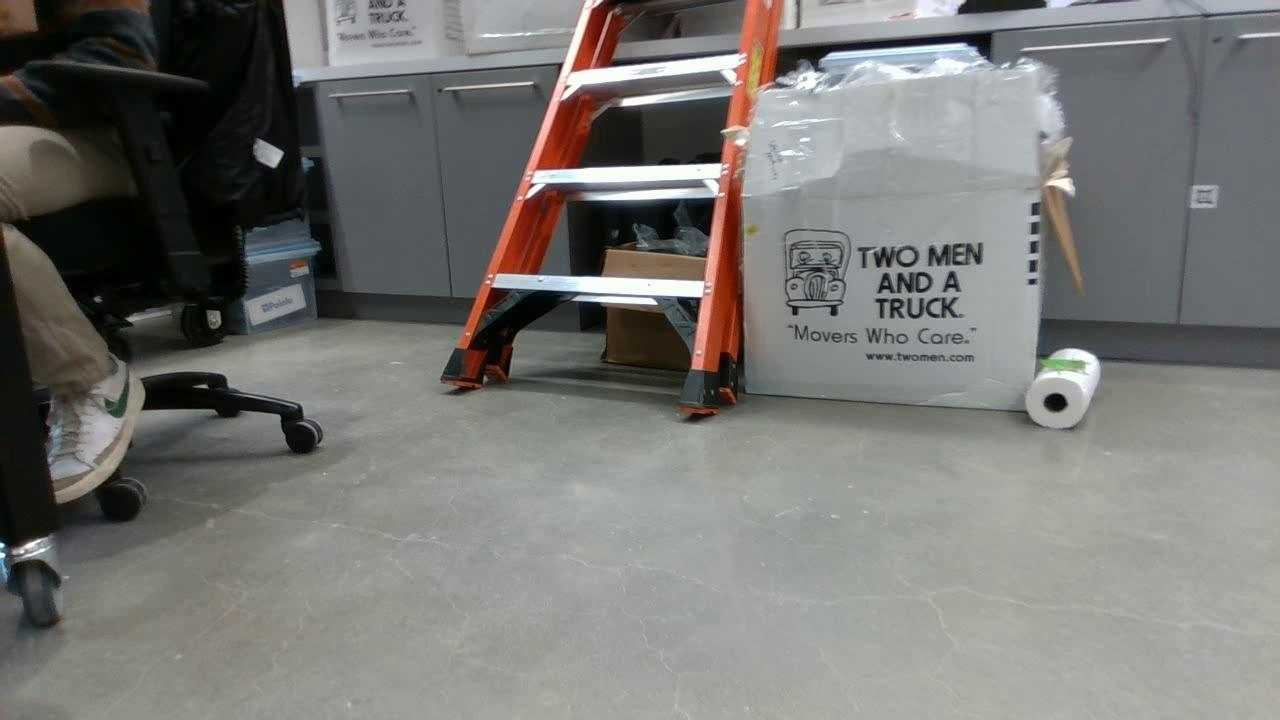grasshopper: (1043, 356, 1088, 379)
